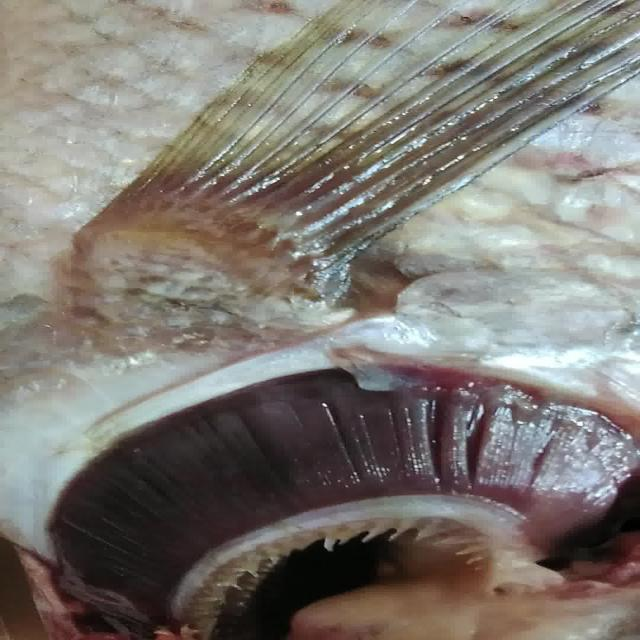Non-Fresh: (30, 352, 618, 620)
